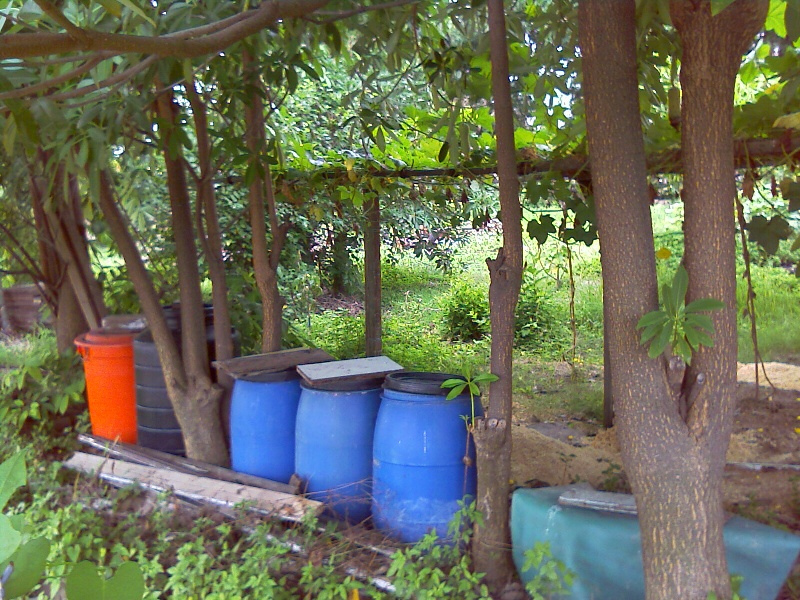bucket: (368, 369, 487, 551), (129, 299, 257, 460), (294, 372, 384, 524), (70, 322, 139, 446), (231, 371, 302, 483)
plastic_bag: (507, 478, 800, 600)
